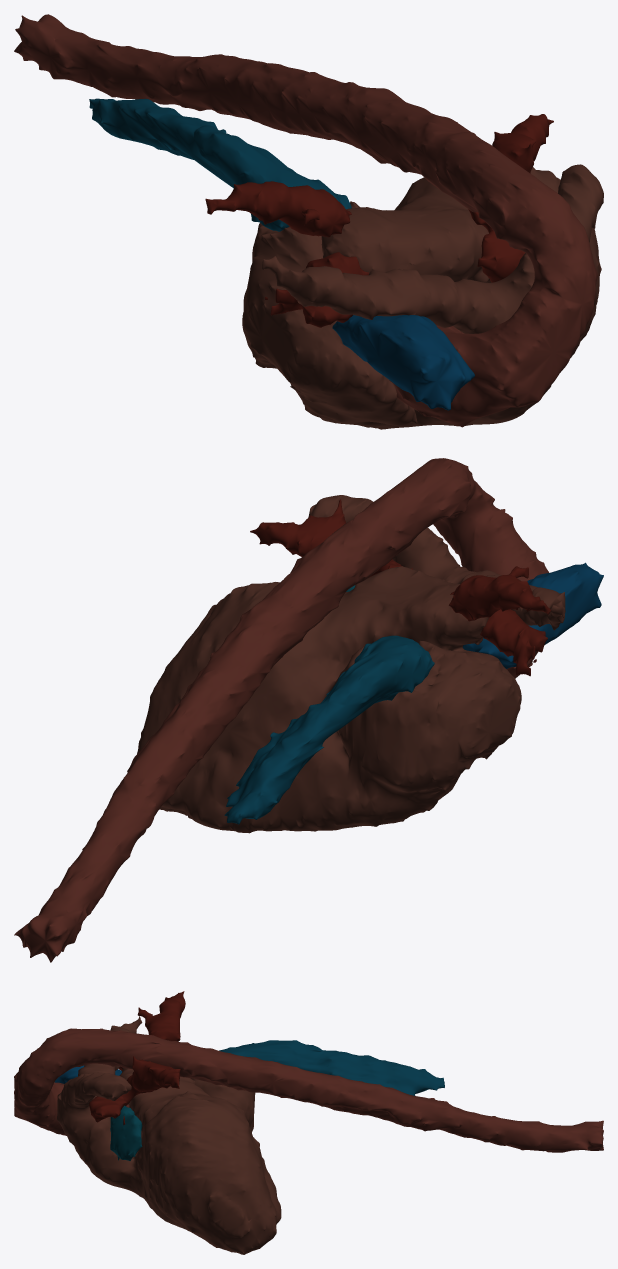
The model's file is CTACardio segmentation.obj.
The picture shows the model from 3 angles, top to bottom: view 1: azimuth 30°, elevation 25°; view 2: azimuth 150°, elevation 25°; view 3: azimuth 270°, elevation 25°; orthographic projection. The views are drawn at different scales.
Parts seen in each view (by area): view 1: grp34087, grp1, grp52624, grp62067, grp59308; view 2: grp1, grp34087, grp62067, grp52624, grp59308; view 3: grp1, grp34087, grp62067, grp52624, grp57992.
Boxes of the visible parts, box(x1,y1,x2,y2) form: grp34087: box(14, 14, 597, 427); grp1: box(242, 164, 603, 429); grp52624: box(205, 114, 553, 327); grp62067: box(89, 98, 351, 231); grp59308: box(332, 315, 474, 410); grp1: box(137, 495, 565, 833); grp34087: box(14, 458, 548, 962); grp62067: box(224, 635, 434, 824); grp52624: box(250, 499, 551, 676); grp59308: box(462, 562, 603, 668); grp1: box(57, 1016, 281, 1254); grp34087: box(14, 1028, 603, 1152); grp62067: box(219, 1040, 444, 1095); grp52624: box(89, 991, 185, 1125); grp57992: box(110, 1105, 142, 1160).
Size of the model in its own units: 148 by 111 by 329.
